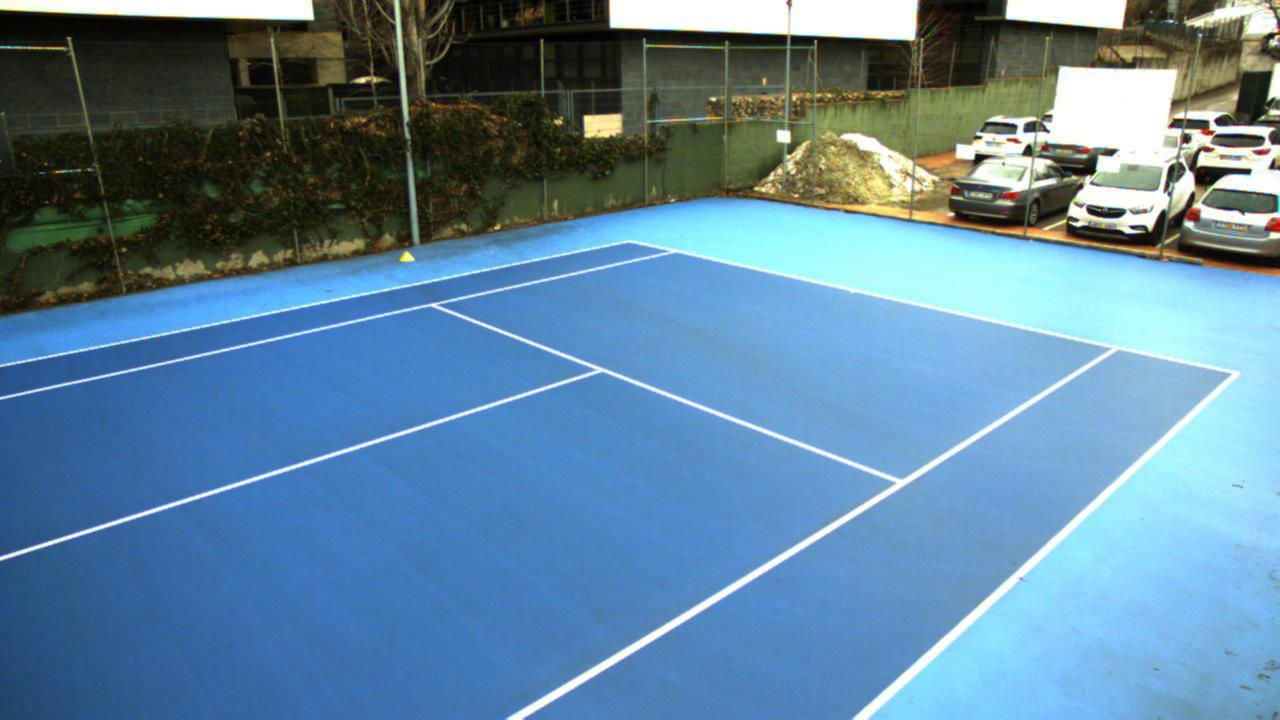cancha_tenis: (0, 238, 1118, 720)
point_f1: (660, 240, 686, 264)
point_f2: (1099, 336, 1131, 361)
point_fc1: (843, 279, 862, 299)
point_i1: (418, 293, 454, 319)
point_i2: (878, 471, 916, 498)
point_ic1: (579, 355, 614, 386)
